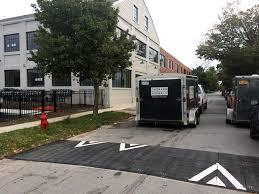Bump: (69, 137, 259, 188)
